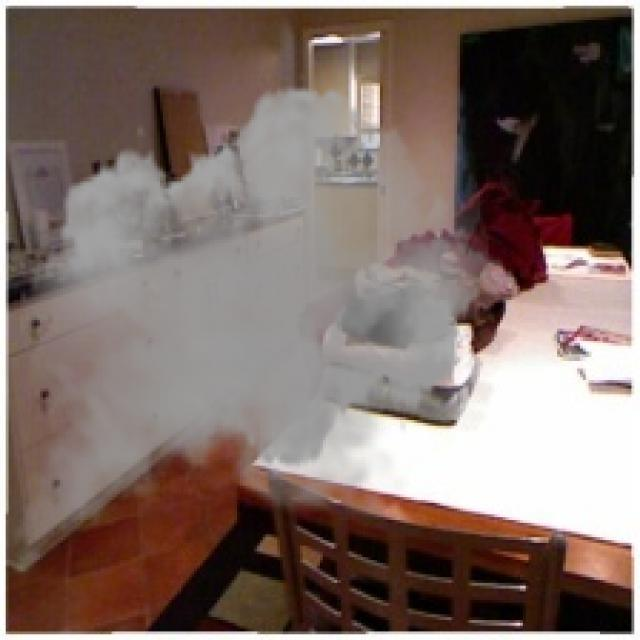Smoke: (0, 71, 517, 603)
